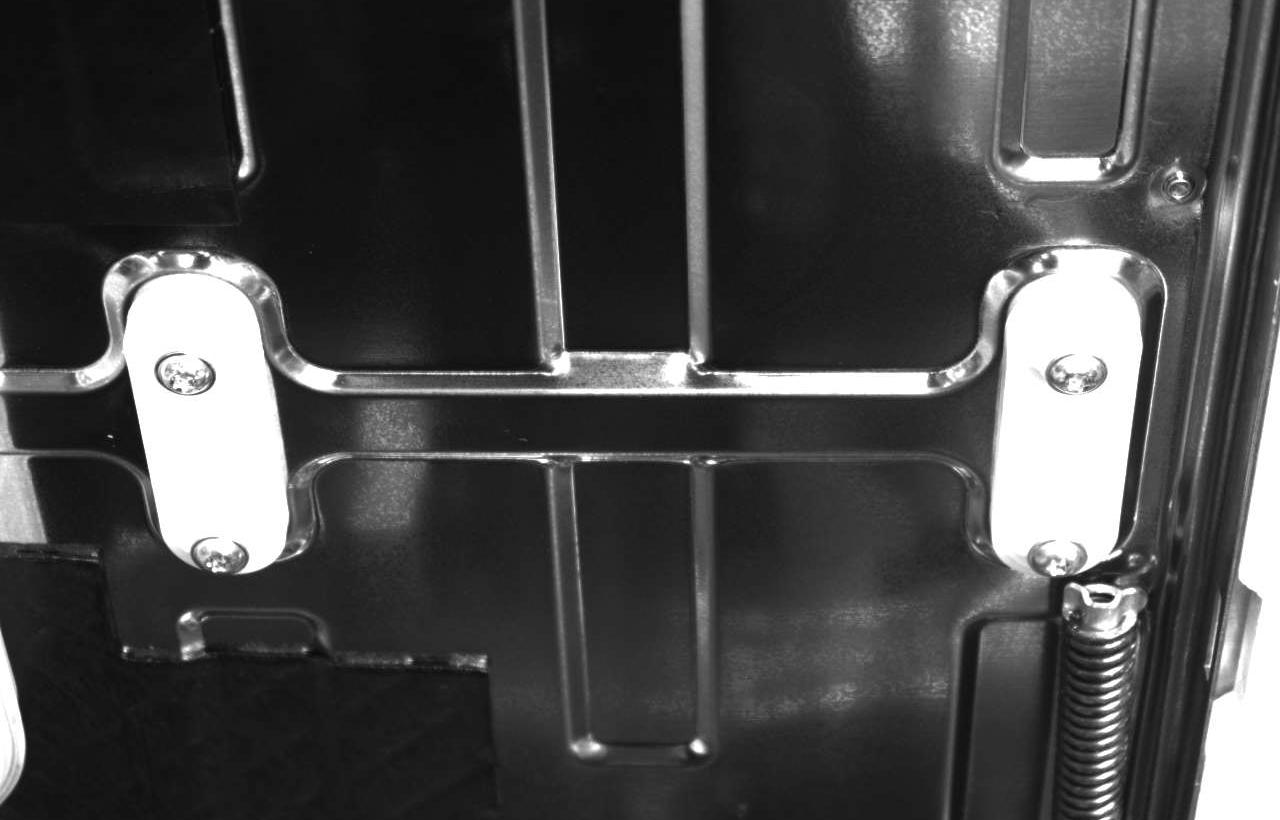vida-ok: (149, 339, 236, 417), (1032, 329, 1120, 402), (185, 521, 266, 585), (1012, 528, 1087, 587)
